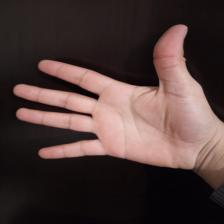five: (14, 22, 203, 165)
